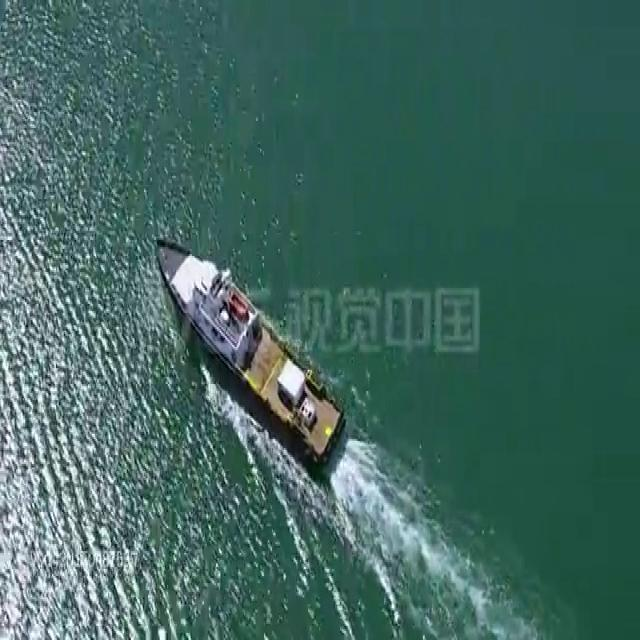houseboat: (156, 238, 344, 457)
